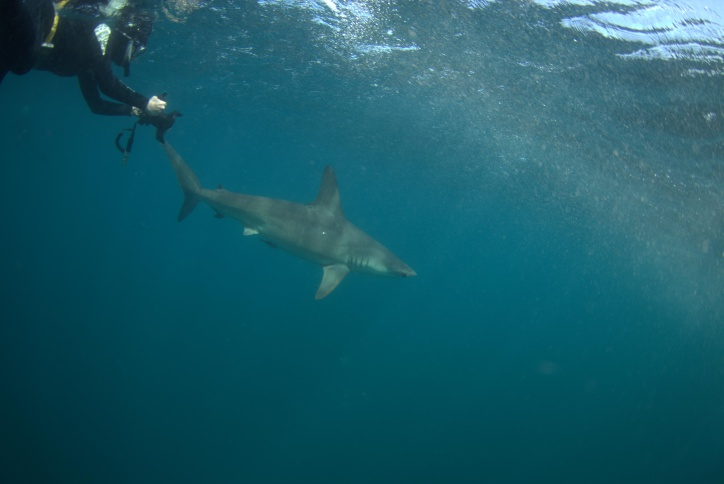Hammer: (146, 125, 486, 320), (263, 169, 528, 362)
